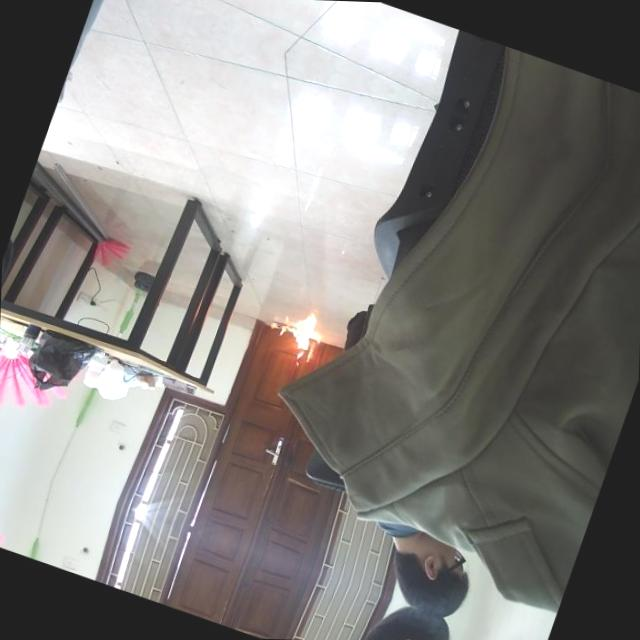fire: (257, 288, 344, 383)
